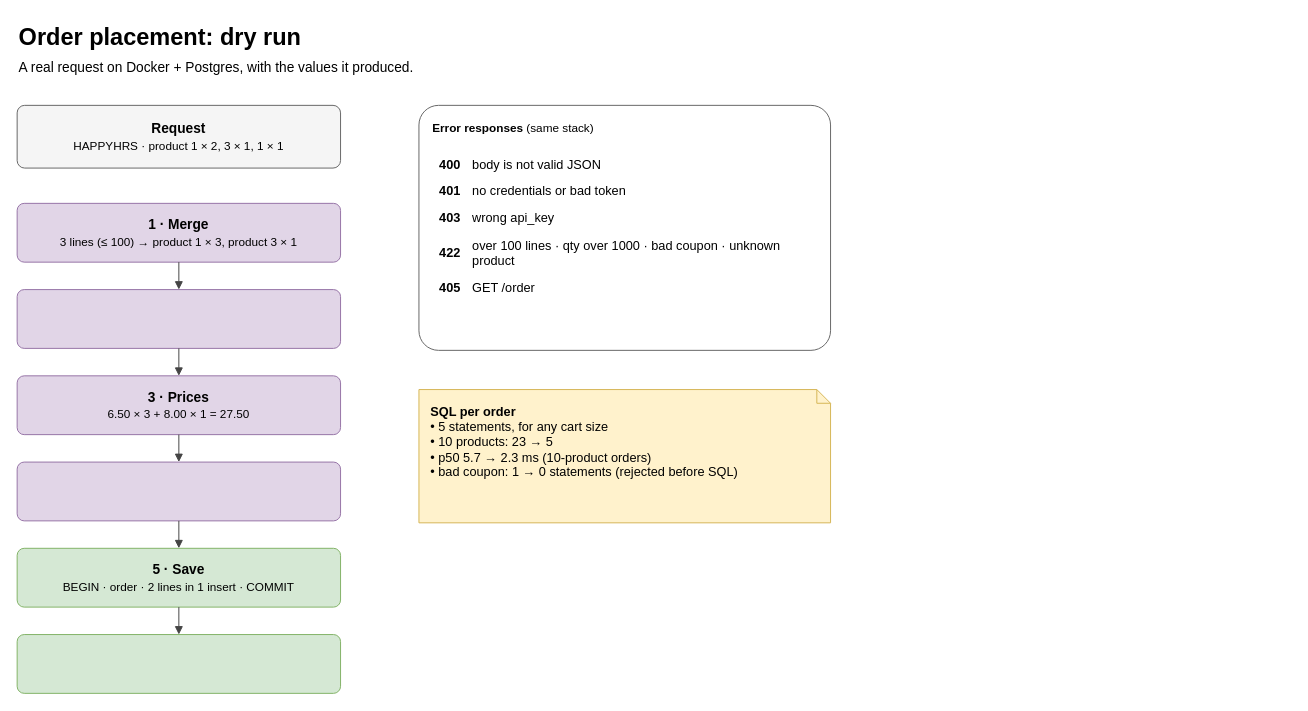
This 1308x711 diagram has some shape labels left out. The box of each missing label's shape, as (x1, y1, x2, y2) in pixels:
2 · Coupon HAPPYHRS valid (in memory, before any SQL): (16, 289, 341, 348)
4 · Total 5% = 1.38 · 27.50 − 1.38 = 26.12: (16, 461, 341, 521)
6 · Response 200 · id 5cb5a242-…: (16, 634, 341, 693)
